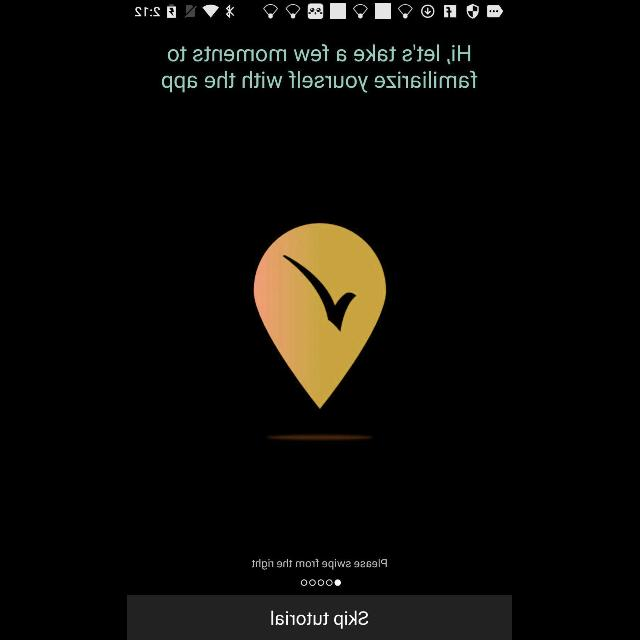image: (254, 224, 386, 408)
pageindicator: (302, 580, 342, 586)
text: (162, 45, 478, 93), (252, 558, 388, 570)
textbutton: (128, 596, 512, 640)
uppertaskbar: (128, 1, 512, 20)
